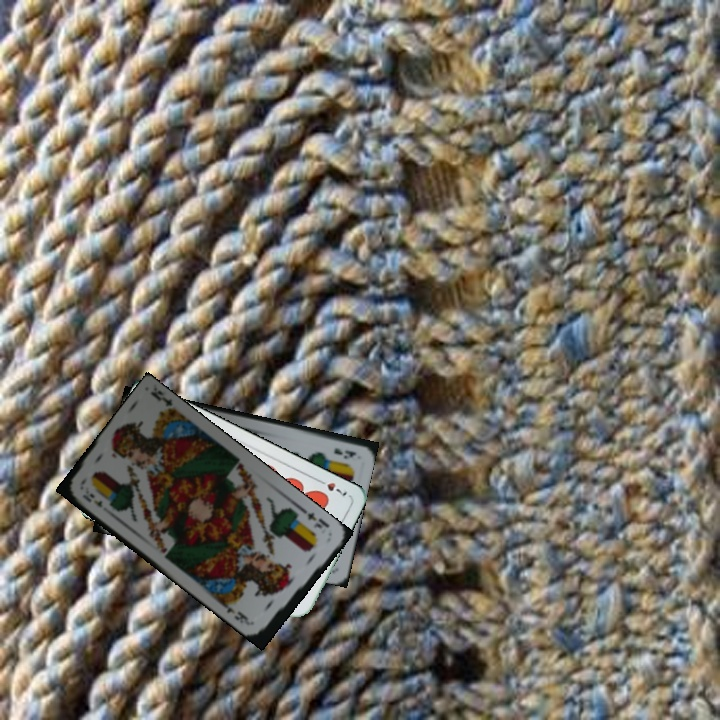EK: (298, 505, 332, 531), (79, 489, 105, 510), (330, 444, 359, 460)
H7: (313, 475, 350, 500)
